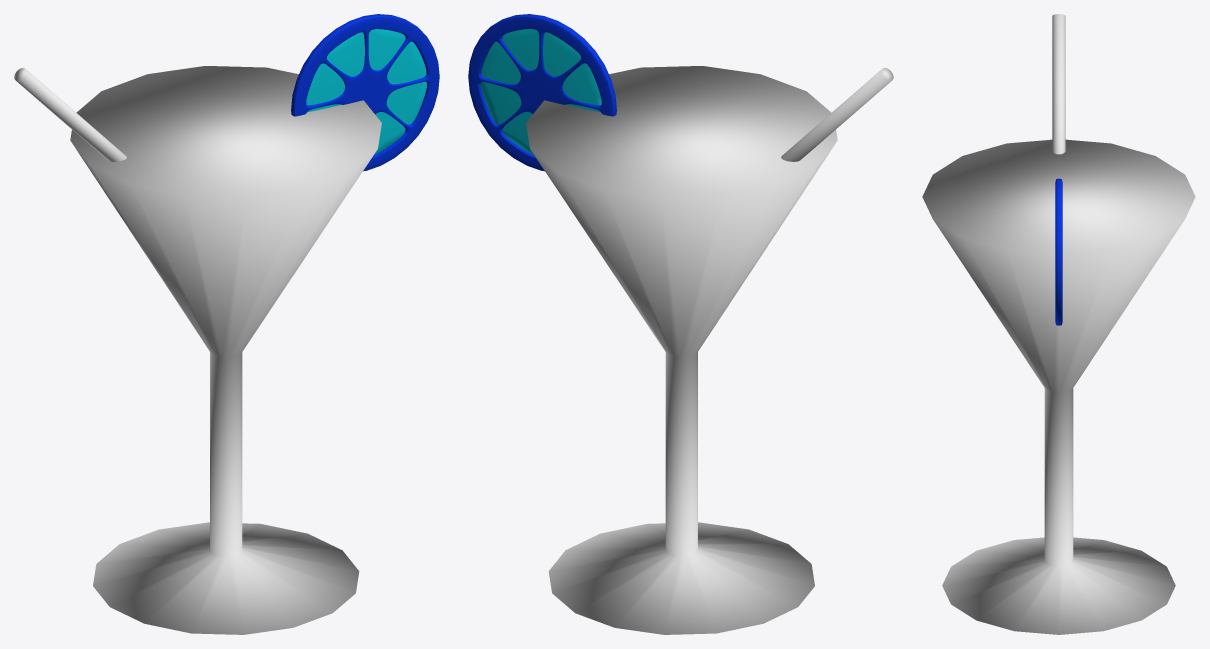
The model's file is Cocktail.fbx.
3 renders of one model, left to right at view 1: azimuth 30°, elevation 25°; view 2: azimuth 150°, elevation 25°; view 3: azimuth 270°, elevation 25°, orthographic. The views are drawn at different scales.
Visible parts, largest first — view 1: vaso, Lemon.002, pajita; view 2: vaso, Lemon.002, pajita; view 3: vaso, pajita, Lemon.002.
Part boxes in pixels (x1,y1,x2,y2): vaso: (70,66,381,634); Lemon.002: (291,14,439,171); pajita: (14,67,126,161); vaso: (526,66,837,634); Lemon.002: (468,14,616,171); pajita: (781,67,893,161); vaso: (922,139,1195,634); pajita: (1052,14,1065,154); Lemon.002: (1055,178,1062,325).
Size of the model in its own units: 34.5 by 43.57 by 22.2.
